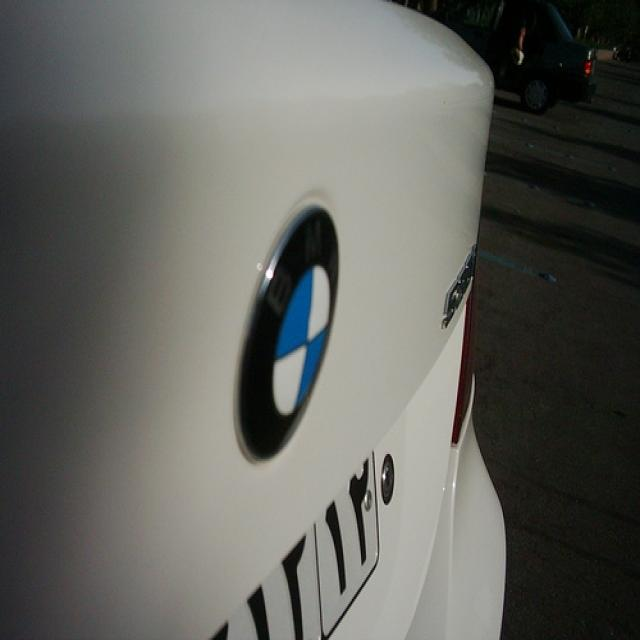bmw: (236, 203, 346, 466)
